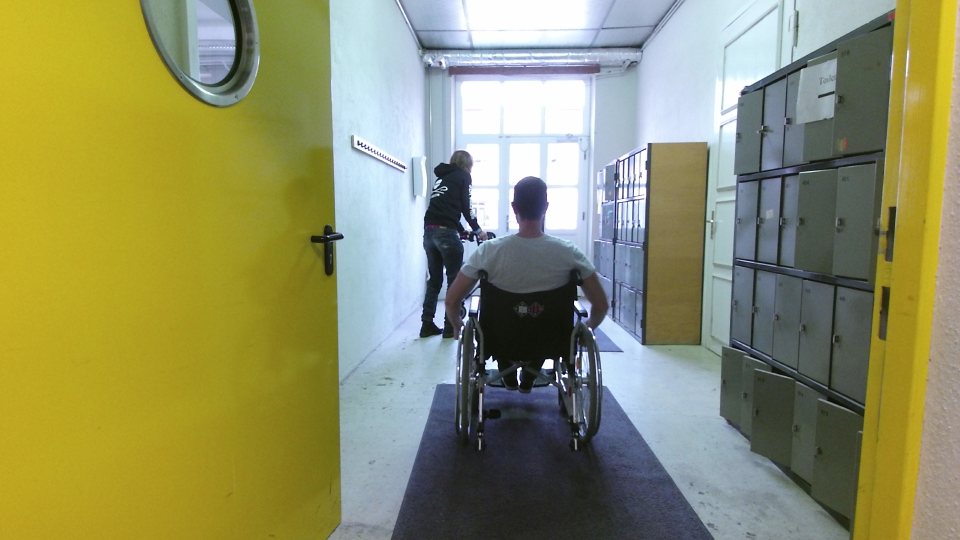wheelchair: (439, 158, 619, 476)
